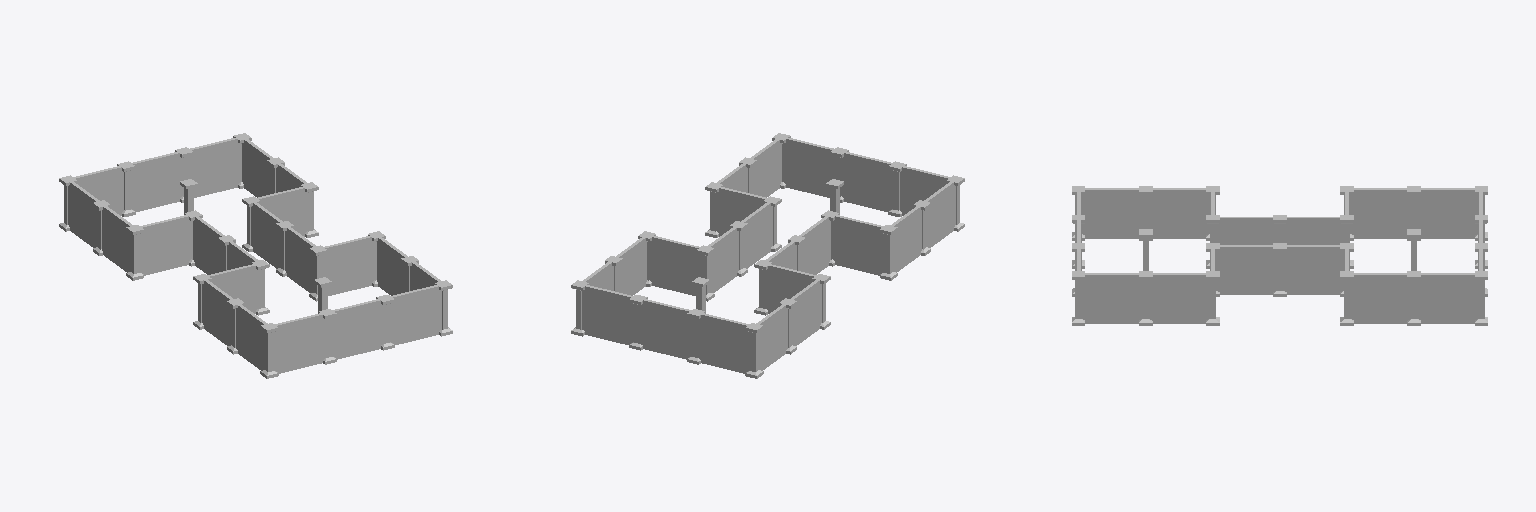
File: Salle2.obj
3 views of the same model, side by side, from view 1: azimuth 30°, elevation 25°; view 2: azimuth 150°, elevation 25°; view 3: azimuth 270°, elevation 25° (orthographic).
Parts seen in each view (by area): view 1: Wall.002_Cube.006, Wall.009_Cube.020, Wall.018_Cube.044, Wall.001_Cube.005, Wall.008_Cube.034, Wall.010_Cube.021, Wall.007_Cube.033, Wall.019_Cube.045, Wall.020_Cube.049, Wall_Cube.003, Wall.015_Cube.038, Wall.005_Cube.012 (+12 smaller); view 2: Wall.008_Cube.034, Wall.007_Cube.033, Wall.017_Cube.043, Wall.003_Cube.008, Wall.002_Cube.006, Wall.014_Cube.036, Wall.009_Cube.020, Wall.013_Cube.027, Wall_Cube.003, Wall.015_Cube.038, Wall.005_Cube.012, Wall.019_Cube.045 (+12 smaller); view 3: Wall.021_Cube.050, Wall.012_Cube.026, Wall.006_Cube.031, Wall.011_Cube.022, Wall.013_Cube.027, Wall.020_Cube.049, Wall_Cube.003, Wall.019_Cube.045, Wall.005_Cube.012, Wall.015_Cube.038, Wall.016_Cube.040, Wall.004_Cube.010.
Part boxes in pixels (x1,y1,x2,y2): Wall.002_Cube.006: (327,298,384,359); Wall.009_Cube.020: (385,284,443,344); Wall.018_Cube.044: (135,214,191,275); Wall.001_Cube.005: (271,312,327,373); Wall.008_Cube.034: (126,150,183,211); Wall.010_Cube.021: (320,234,376,295); Wall.007_Cube.033: (184,136,241,197); Wall.019_Cube.045: (100,203,133,272); Wall.020_Cube.049: (68,179,102,247); Wall_Cube.003: (201,277,237,345); Wall.015_Cube.038: (250,200,282,268); Wall.005_Cube.012: (285,226,319,292); Wall.008_Cube.034: (638,298,696,359); Wall.007_Cube.033: (580,284,638,344); Wall.017_Cube.043: (696,312,753,373); Wall.003_Cube.008: (832,215,888,275); Wall.002_Cube.006: (839,150,897,211); Wall.014_Cube.036: (647,235,705,295); Wall.009_Cube.020: (782,136,839,197); Wall.013_Cube.027: (921,179,955,247); Wall_Cube.003: (890,203,923,272); Wall.015_Cube.038: (705,224,739,292); Wall.005_Cube.012: (741,200,773,268); Wall.019_Cube.045: (786,280,821,345); Wall.021_Cube.050: (1417,273,1477,323); Wall.012_Cube.026: (1082,273,1142,323); Wall.006_Cube.031: (1349,273,1410,323); Wall.011_Cube.022: (1149,273,1209,323); Wall.013_Cube.027: (1079,188,1145,238); Wall.020_Cube.049: (1414,188,1480,238); Wall_Cube.003: (1146,188,1212,238); Wall.019_Cube.045: (1347,188,1413,238); Wall.005_Cube.012: (1213,245,1279,294); Wall.015_Cube.038: (1280,245,1343,294); Wall.016_Cube.040: (1280,217,1344,244); Wall.004_Cube.010: (1216,217,1276,244).
Size of the model in its own units: 32 by 8 by 62.